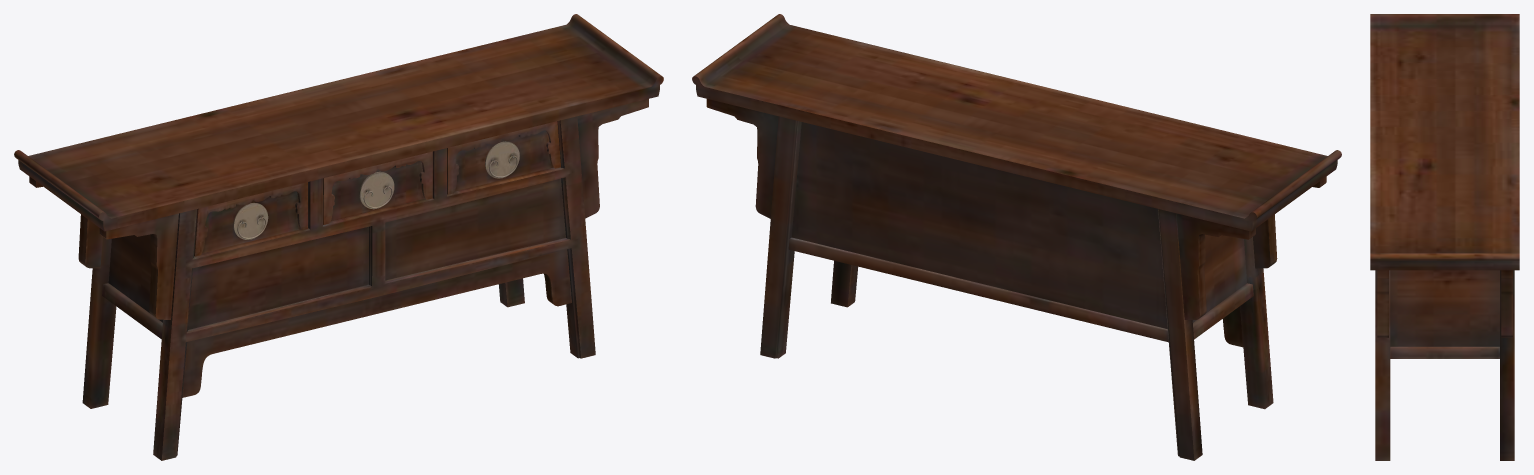
The picture shows the model from 3 angles, left to right: view 1: azimuth 30°, elevation 25°; view 2: azimuth 150°, elevation 25°; view 3: azimuth 270°, elevation 25°; orthographic projection. The views are drawn at different scales.
Visible parts, largest first — view 1: chinese_commode; view 2: chinese_commode; view 3: chinese_commode.
Boxes of the visible parts, box(x1,y1,x2,y2) form: chinese_commode: box(14, 14, 663, 460); chinese_commode: box(692, 14, 1341, 460); chinese_commode: box(1370, 14, 1519, 460).
Size of the model in its own units: 4.49 by 2.02 by 1.17.
Materials: 1 (1 with a texture image).
